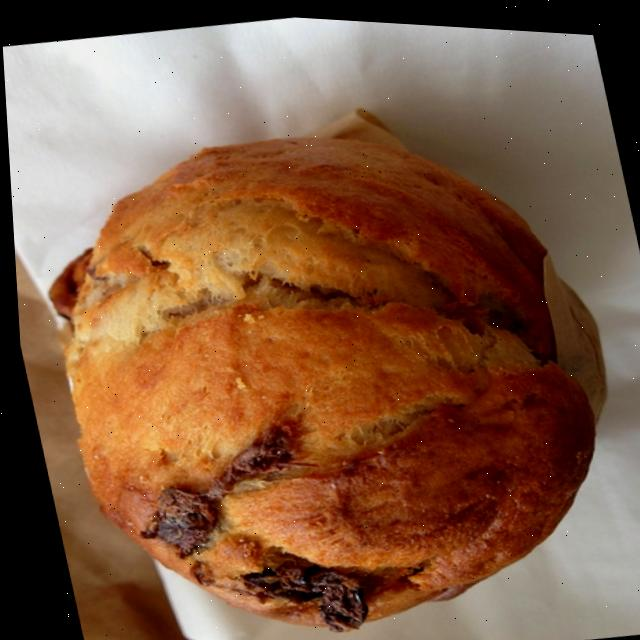炸货点心: (2, 39, 640, 640)
面包点心: (2, 39, 640, 640)
